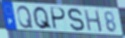8: (104, 11, 117, 33)
H: (83, 8, 104, 33)
P: (50, 7, 67, 31)
Q: (32, 6, 54, 31), (16, 5, 34, 29)
S: (67, 7, 86, 32)
